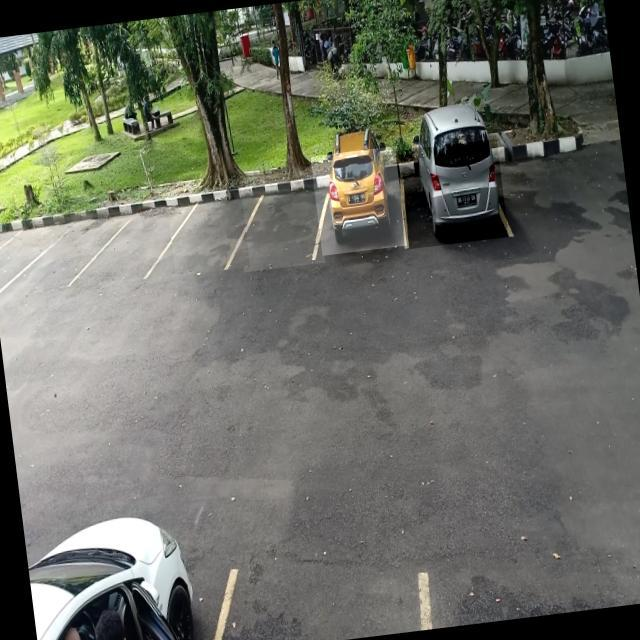empty: (232, 168, 325, 272), (162, 181, 250, 276), (91, 200, 175, 282)
occupied: (394, 138, 508, 248), (310, 146, 409, 256)
